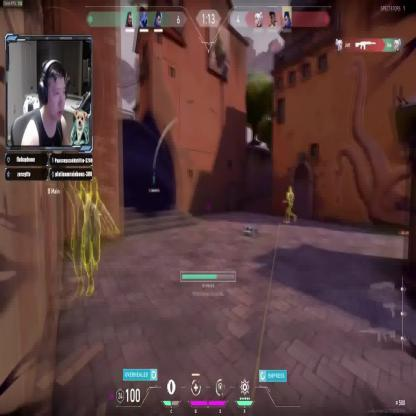enemy: (62, 162, 121, 296), (286, 186, 298, 224)
enemy_head: (90, 176, 98, 197), (288, 186, 294, 194)
